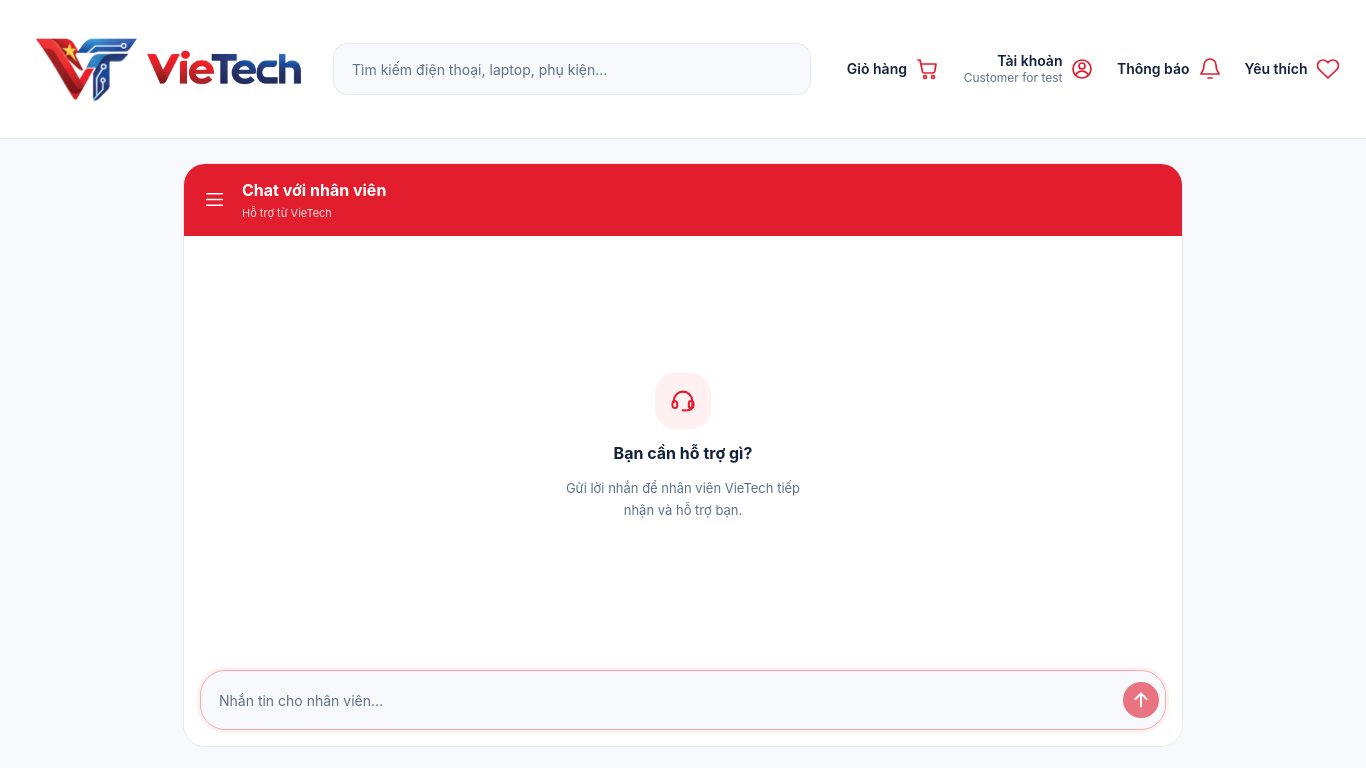
opening chat starts Staff mode immediately and sends a message without spoofing the sender
This screenshot has width=1366, height=768.
Expected: the button named "Gửi tin nhắn" is disabled, [1123,682,1159,718]
Type "Tôi cần tư vấn laptop" into the text box named "Nội dung tin nhắn" at (661, 700), box [207,677,1115,723]
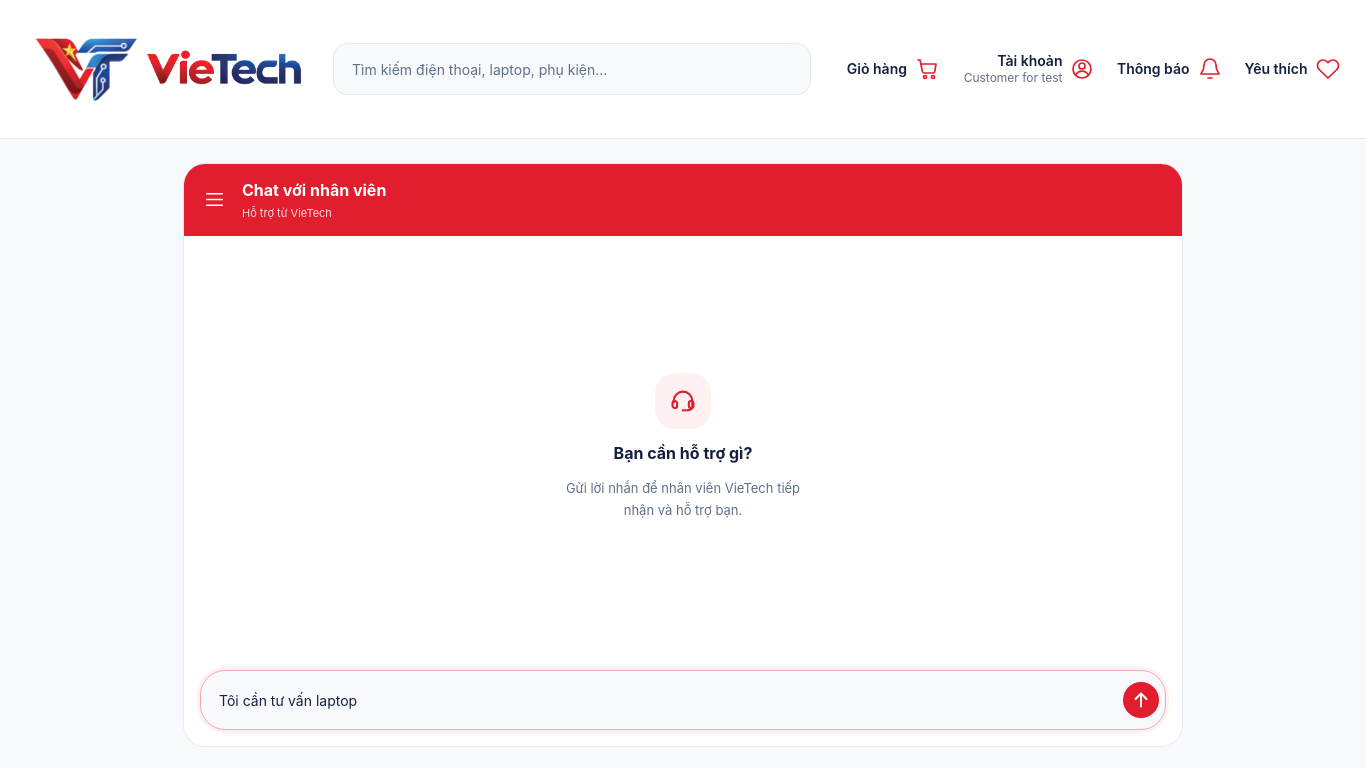
Clear the text box named "Nội dung tin nhắn" at (661, 700), box [207,677,1115,723]
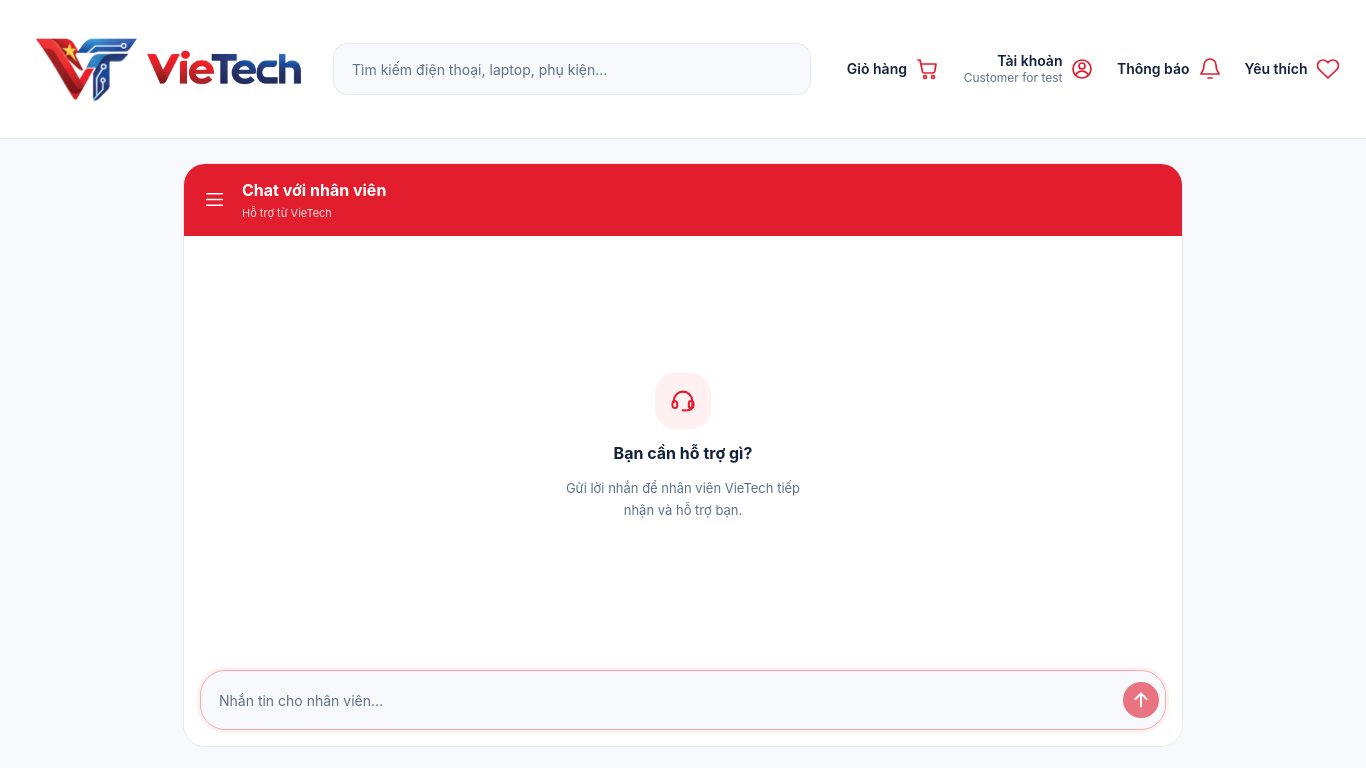
Now the button named "Gửi tin nhắn" is disabled, box [1123,682,1159,718]
Type "Tôi cần tư vấn laptop" into the text box named "Nội dung tin nhắn" at (661, 700), box [207,677,1115,723]
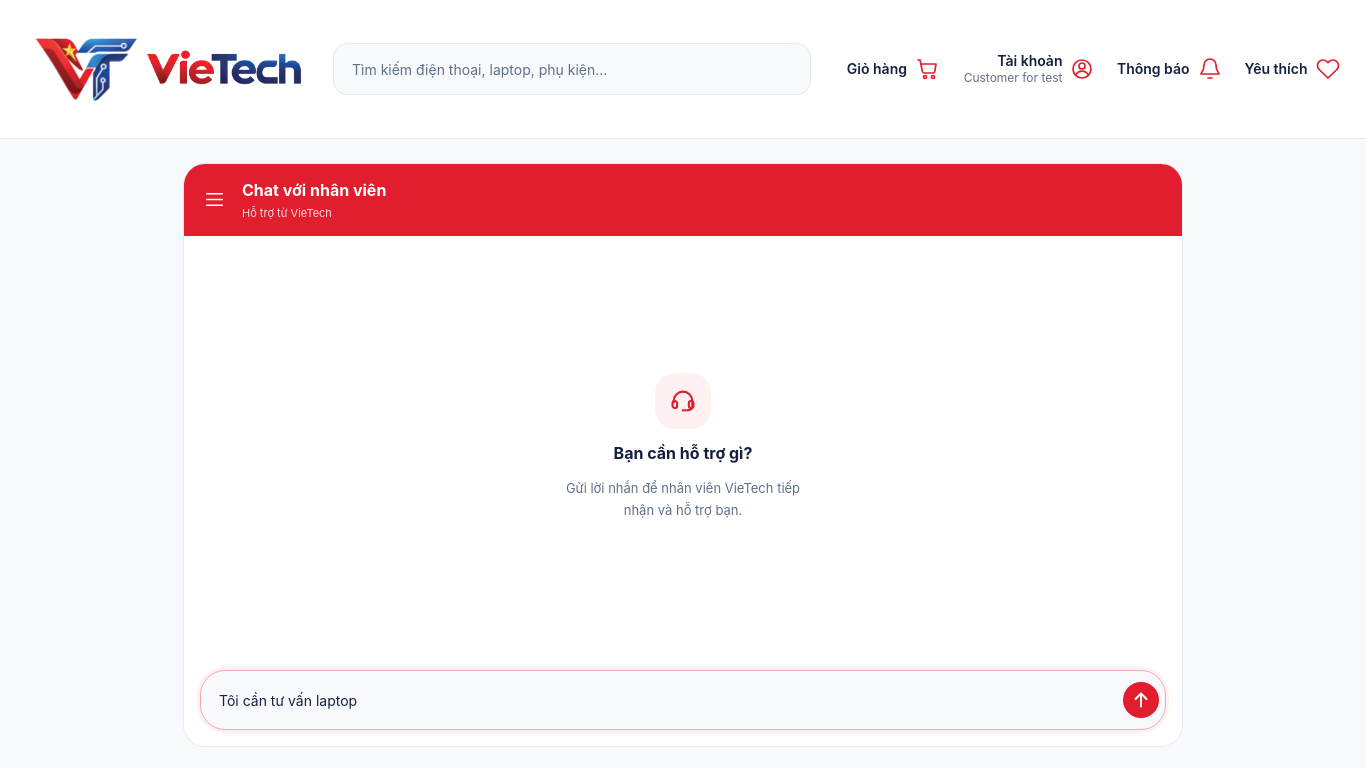
Click the button named "Gửi tin nhắn" at (1141, 700), box [1123,682,1159,718]
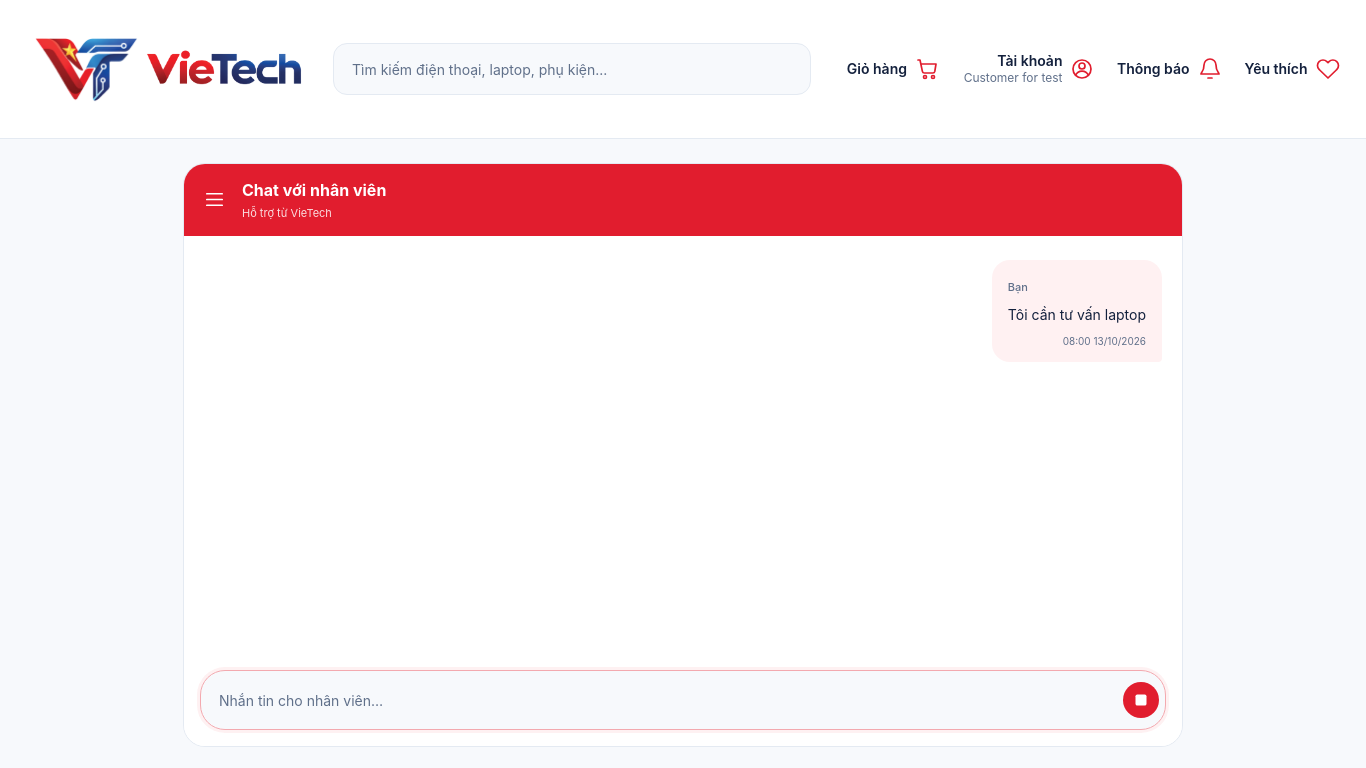
Now the text "Tôi cần tư vấn laptop" is shown, box [1008,302,1146,326]
Now the button named "Dừng hội thoại" is shown, box [1123,682,1159,718]
